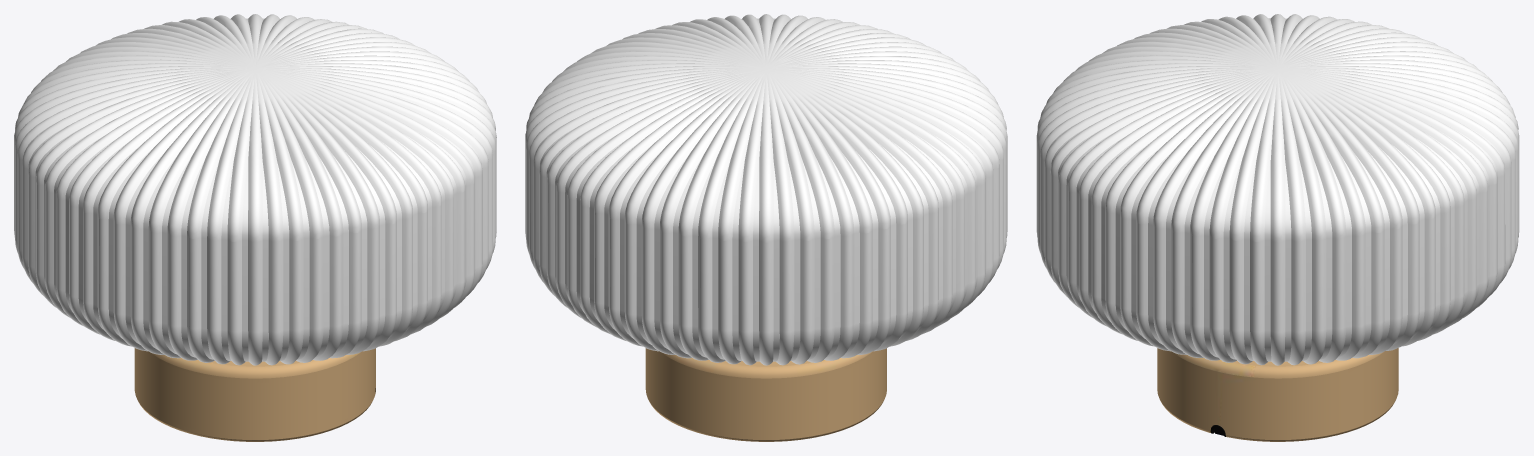
Rendered from ikea_ceiling_lamp.glb.
The picture shows the model from 3 angles, left to right: view 1: azimuth 30°, elevation 25°; view 2: azimuth 150°, elevation 25°; view 3: azimuth 270°, elevation 25°; orthographic projection.
Visible parts, largest first — view 1: ikea_ceiling_lamp; view 2: ikea_ceiling_lamp; view 3: ikea_ceiling_lamp.
Part boxes in pixels (box(x1,y1,x2,y2)): ikea_ceiling_lamp: box(14, 14, 496, 441); ikea_ceiling_lamp: box(525, 14, 1007, 441); ikea_ceiling_lamp: box(1036, 14, 1519, 441).
Bounding box in the file's own units: 0.2702 × 0.1999 × 0.2702.
Materials: 2 (2 with a texture image).
